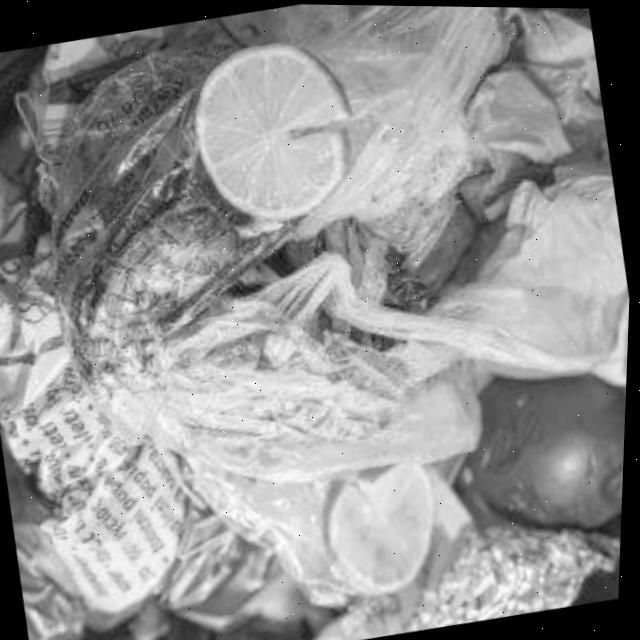Garbage: (0, 4, 631, 640)
contaminated_waste: (59, 3, 632, 479), (7, 365, 189, 610)
